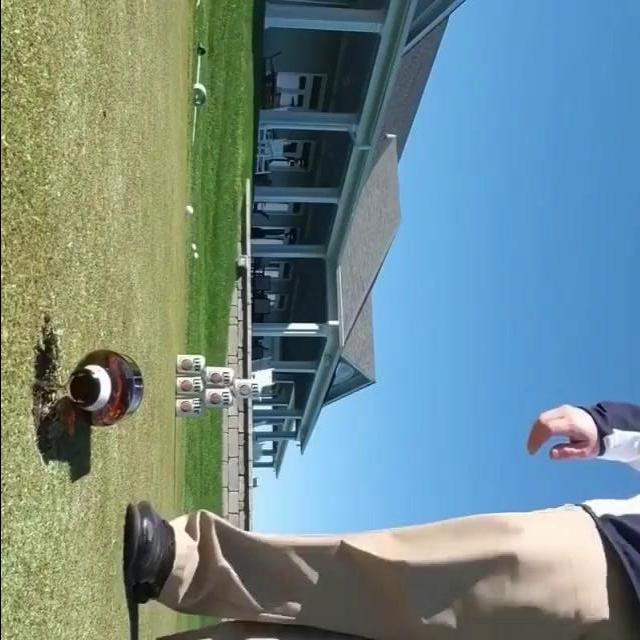GolfBall: (186, 206, 193, 215), (192, 252, 197, 259), (190, 243, 195, 250)
